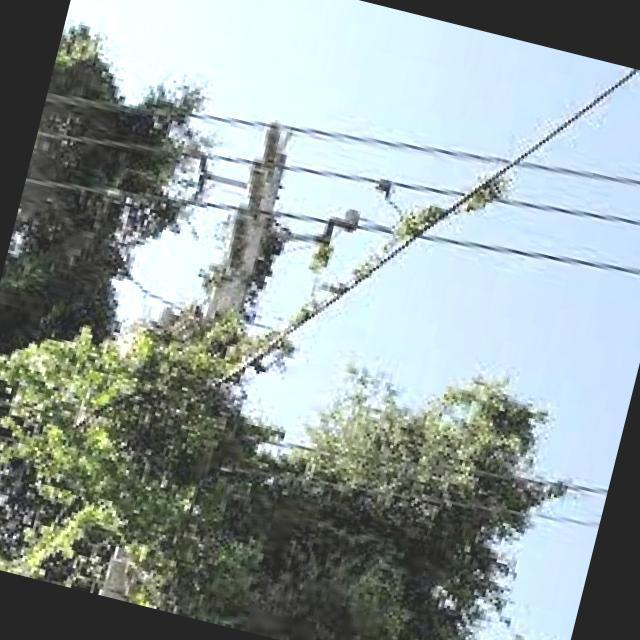critical vegetation: (0, 12, 565, 609)
